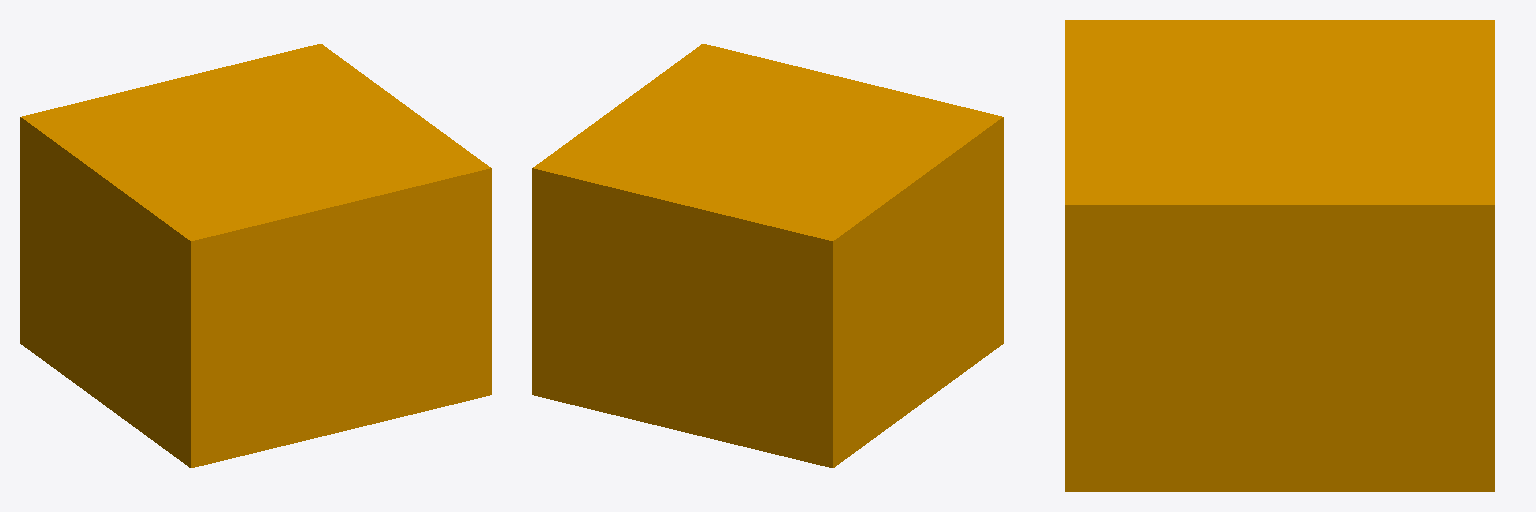
URDF robot description (object):
<?xml version="1.0"?>
<!-- Auto-generated by tools/gen_primitive_objects.py. kind=box dims=(0.076713, 0.075335, 0.055371) -->
<robot name="object">
  <link name="object">
    <visual>
      <origin xyz="0 0 0"/>
      <geometry>
        <box size="0.076713 0.075335 0.055371"/>
      </geometry>
    </visual>
    <collision>
      <origin xyz="0 0 0"/>
      <geometry>
        <box size="0.076713 0.075335 0.055371"/>
      </geometry>
    </collision>
    <inertial>
      <mass value="0.064000"/>
      <inertia ixx="0.00004662" ixy="0.0" ixz="0.0" iyy="0.00004774" iyz="0.0" izz="0.00006165"/>
    </inertial>
  </link>
</robot>

--- What the picture shows (computed from the rendered views, not written in the file) ---
Views: 3 orthographic renders of the robot side by side, from view 1: azimuth 30°, elevation 25°; view 2: azimuth 150°, elevation 25°; view 3: azimuth 270°, elevation 25°.
Robot: object — 1 links, 0 joints (none); root link object; default pose: every joint at zero.
Links seen in each view (by area): view 1: object; view 2: object; view 3: object.
Link boxes in pixels (box(x1,y1,x2,y2)): object: box(20, 44, 491, 467); object: box(532, 44, 1003, 467); object: box(1065, 20, 1494, 491).
Bounding box of the posed robot: 0.0767 × 0.0753 × 0.0554 m (x, y, z).
Geometry: primitives only (box / cylinder / sphere), no mesh files.
